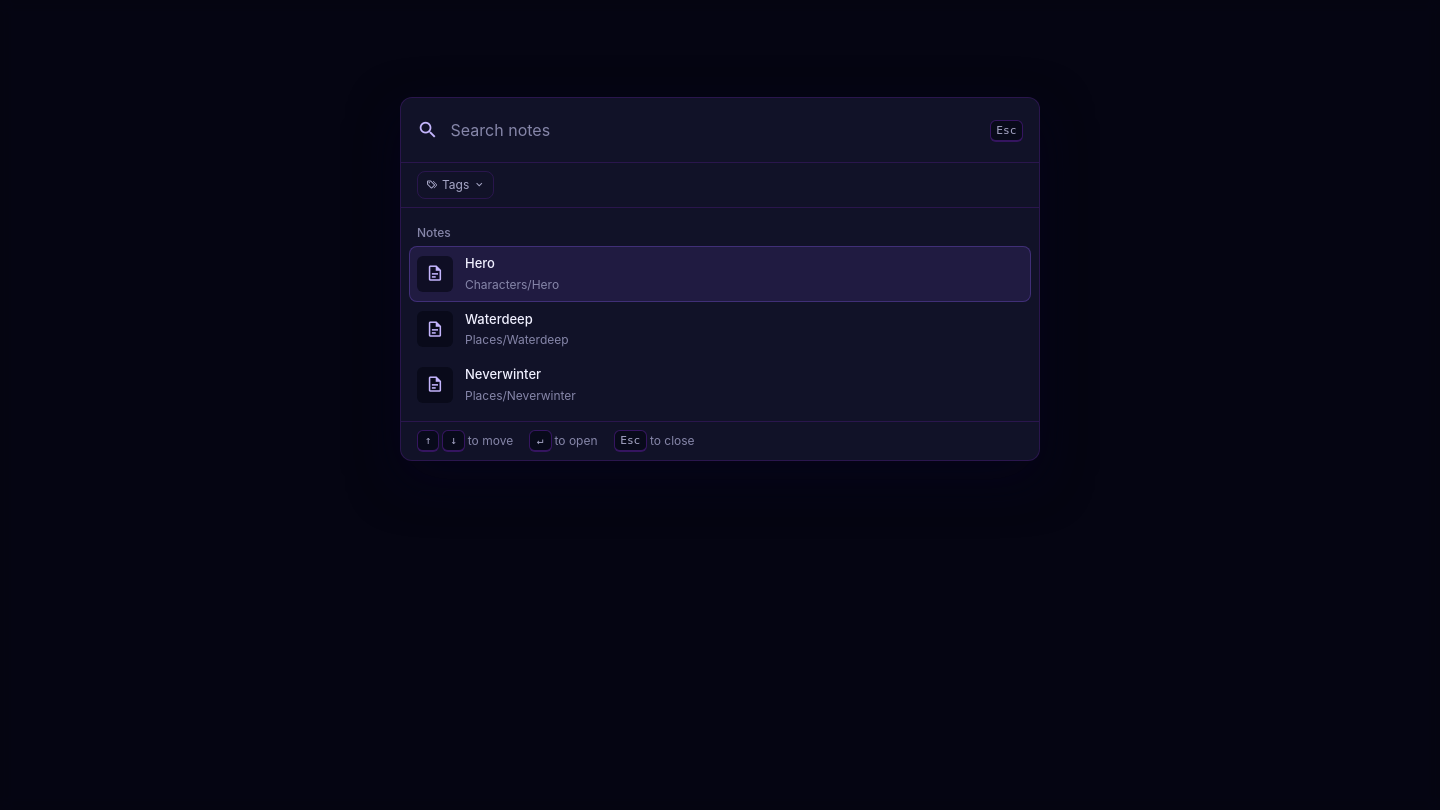
Test: SearchModal.vue › shows the empty state when nothing matches
Type "dragon" into the dropdown with class "search-input" at (714, 130), box [451,110,978,150]
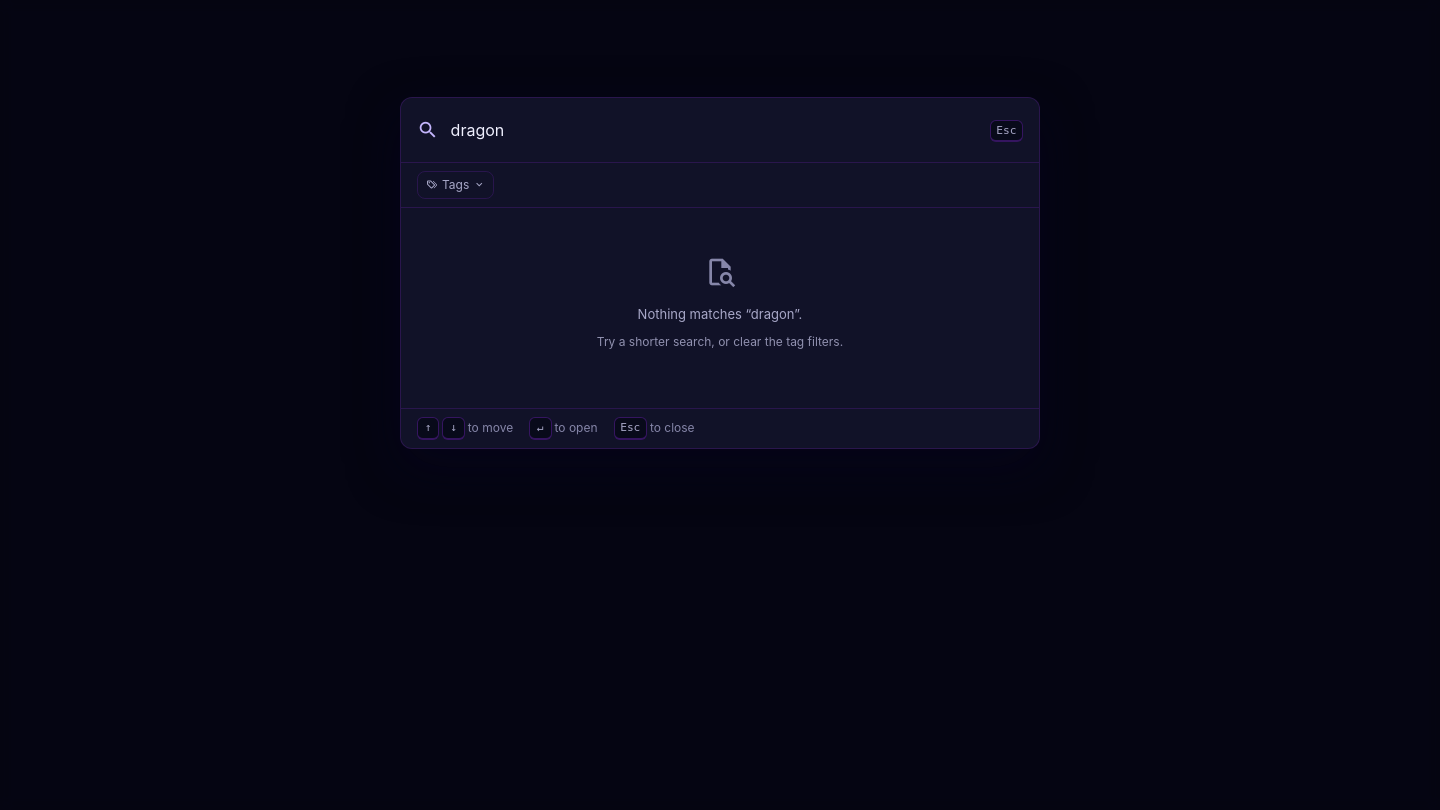
Expected: the element with class "no-results" is shown, [597,248,843,349]
